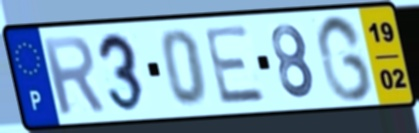0: (158, 27, 212, 110)
3: (97, 29, 154, 117)
8: (270, 22, 317, 101)
E: (200, 23, 270, 108)
G: (313, 12, 376, 105)
R: (38, 33, 108, 118)
